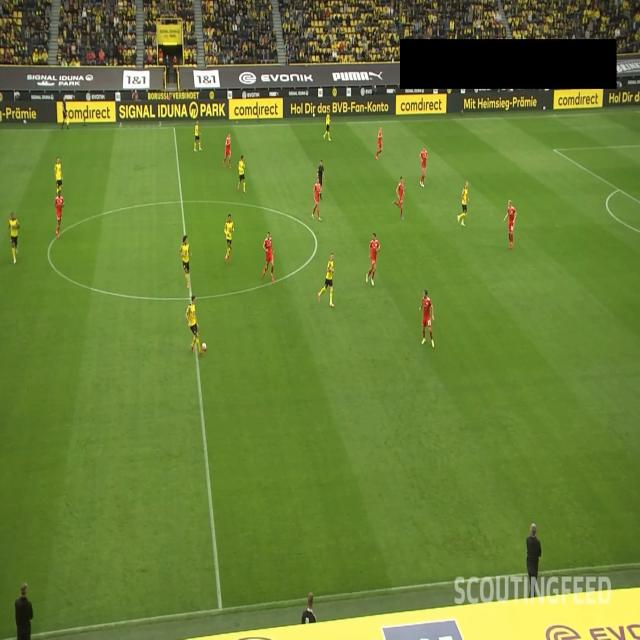ball: (202, 341, 208, 352)
